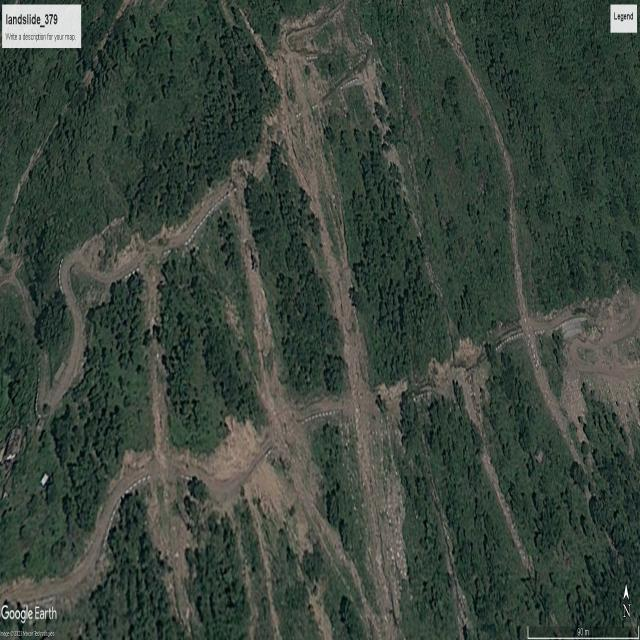Landslide: (273, 48, 377, 380), (140, 281, 199, 627), (352, 427, 419, 640), (465, 388, 534, 574), (259, 474, 342, 610)
